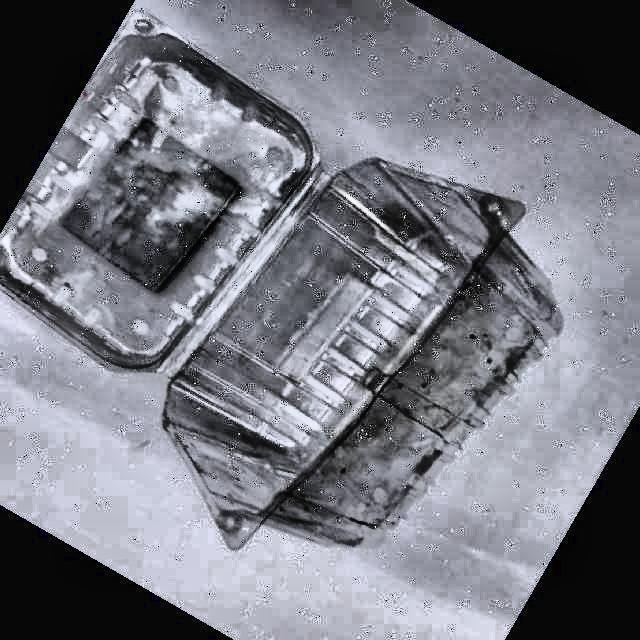plastic: (0, 9, 560, 548)
